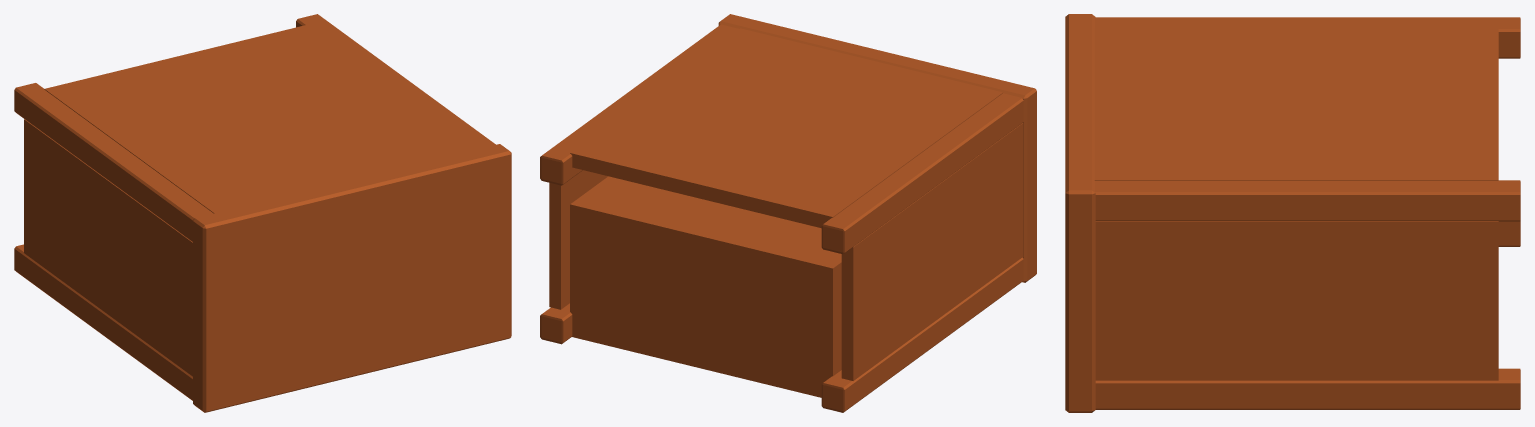
File: DressermeshSideTable_302_1_0.obj
The picture shows the model from 3 angles, left to right: view 1: azimuth 30°, elevation 25°; view 2: azimuth 150°, elevation 25°; view 3: azimuth 270°, elevation 25°; orthographic projection. The views are drawn at different scales.
Visible parts, largest first — view 1: SideTable_302_1; view 2: SideTable_302_1; view 3: SideTable_302_1.
Part boxes in pixels (bbox=[...]): SideTable_302_1: bbox=[14, 14, 511, 412]; SideTable_302_1: bbox=[540, 14, 1036, 412]; SideTable_302_1: bbox=[1065, 14, 1520, 412].
Bounding box in the file's own units: 0.6203 × 0.3603 × 0.6681.
